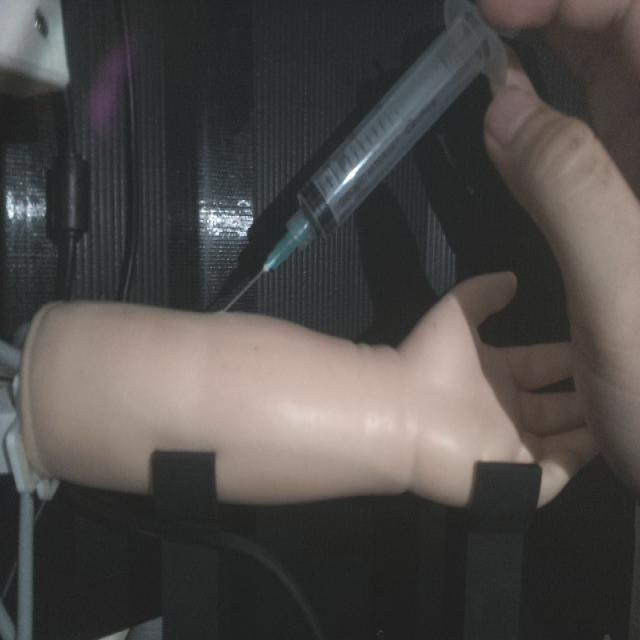Above 30 degrees: (217, 0, 511, 317)
